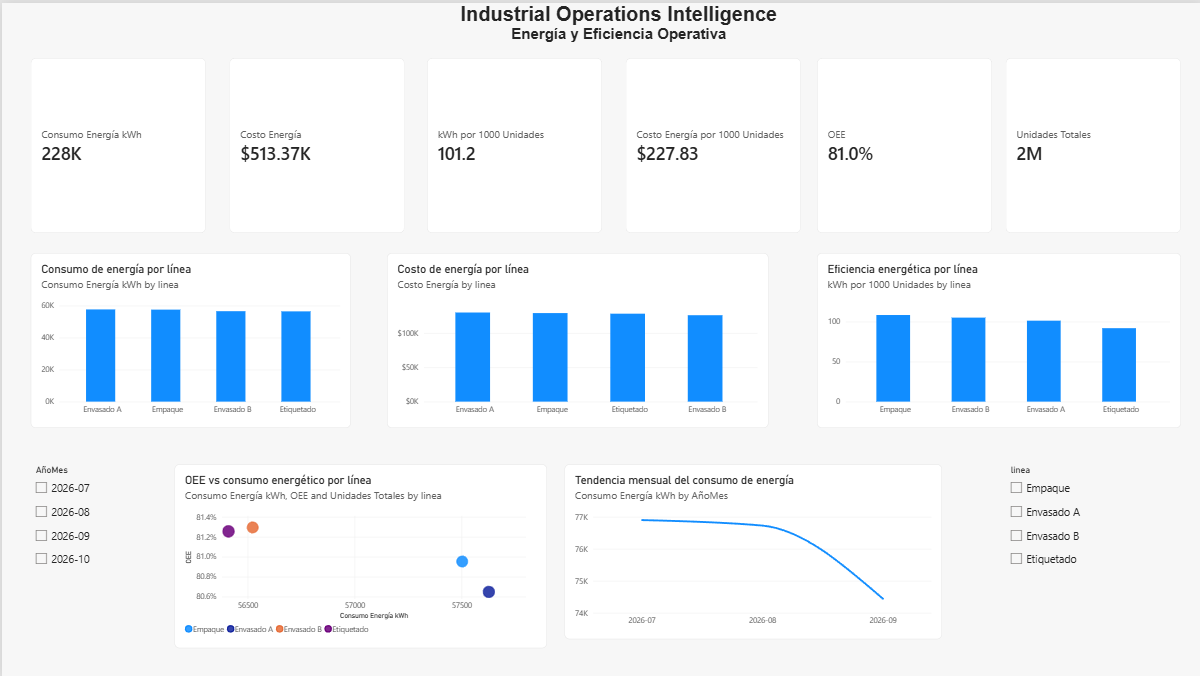

What the dashboard file says about the page in this screenshot:
{"tool":"powerbi","page":{"name":"Energía y Eficiencia","canvas":[1920,1080],"ordinal":4},"visuals":[{"type":"cardVisual","fields":{"Data":["Medidas.Consumo Energía kWh"]},"box":[46,88,280,280],"z":0},{"type":"cardVisual","fields":{"Data":["Medidas.Unidades Totales"]},"box":[1606,88,280,280],"z":1000},{"type":"cardVisual","fields":{"Data":["Medidas.kWh por 1000 Unidades"]},"box":[680,88,280,280],"z":2000},{"type":"cardVisual","fields":{"Data":["Medidas.OEE"]},"box":[1304,88,280,280],"z":3000},{"type":"cardVisual","fields":{"Data":["Medidas.Costo Energía"]},"box":[364,88,280,280],"z":4000},{"type":"cardVisual","fields":{"Data":["Medidas.Costo Energía por 1000 Unidades"]},"box":[998,88,280,280],"z":5000},{"type":"slicer","fields":{"Values":["DimFecha.AñoMes"]},"box":[46,738,280,280],"z":6000},{"type":"slicer","fields":{"Values":["DimLinea.linea"]},"box":[1606,738,280,294],"z":7000},{"type":"clusteredColumnChart","title":"Consumo de energía por línea","fields":{"Category":["DimLinea.linea"],"Y":["Medidas.Consumo Energía kWh"]},"box":[46,400,512,280],"z":8000},{"type":"clusteredColumnChart","title":"Costo de energía por línea","fields":{"Category":["DimLinea.linea"],"Y":["Medidas.Costo Energía"]},"box":[616,400,610,280],"z":9000},{"type":"lineChart","title":"Tendencia mensual del consumo de energía","fields":{"Category":["DimFecha.AñoMes"],"Y":["Medidas.Consumo Energía kWh"]},"box":[900,738,604,280],"z":10000},{"type":"clusteredColumnChart","title":"Eficiencia energética por línea","fields":{"Category":["DimLinea.linea"],"Y":["Medidas.kWh por 1000 Unidades"]},"box":[1304,400,582,280],"z":11000},{"type":"scatterChart","title":"OEE vs consumo energético por línea","fields":{"Series":["DimLinea.linea"],"Size":["Medidas.Unidades Totales"],"X":["Medidas.Consumo Energía kWh"],"Y":["Medidas.OEE"]},"box":[276,738,596,294],"z":12000},{"type":"textbox","box":[644,0,686,192],"z":12002}]}

Visuals, with their boxes in screenshot pixels (x1, y1, x2, y2), scaled from the page's 1920x1080 canvas onto the 1200x676 screenshot:
cardVisual - Medidas.Consumo Energía kWh: {"x1": 29, "y1": 55, "x2": 204, "y2": 230}
cardVisual - Medidas.Unidades Totales: {"x1": 1004, "y1": 55, "x2": 1179, "y2": 230}
cardVisual - Medidas.kWh por 1000 Unidades: {"x1": 425, "y1": 55, "x2": 600, "y2": 230}
cardVisual - Medidas.OEE: {"x1": 815, "y1": 55, "x2": 990, "y2": 230}
cardVisual - Medidas.Costo Energía: {"x1": 228, "y1": 55, "x2": 402, "y2": 230}
cardVisual - Medidas.Costo Energía por 1000 Unidades: {"x1": 624, "y1": 55, "x2": 799, "y2": 230}
slicer - DimFecha.AñoMes: {"x1": 29, "y1": 462, "x2": 204, "y2": 637}
slicer - DimLinea.linea: {"x1": 1004, "y1": 462, "x2": 1179, "y2": 646}
"Consumo de energía por línea" clusteredColumnChart: {"x1": 29, "y1": 250, "x2": 349, "y2": 426}
"Costo de energía por línea" clusteredColumnChart: {"x1": 385, "y1": 250, "x2": 766, "y2": 426}
"Tendencia mensual del consumo de energía" lineChart: {"x1": 562, "y1": 462, "x2": 940, "y2": 637}
"Eficiencia energética por línea" clusteredColumnChart: {"x1": 815, "y1": 250, "x2": 1179, "y2": 426}
"OEE vs consumo energético por línea" scatterChart: {"x1": 172, "y1": 462, "x2": 545, "y2": 646}
textbox: {"x1": 402, "y1": 0, "x2": 831, "y2": 120}
